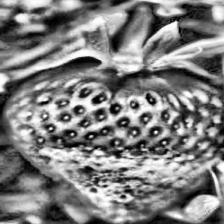Gray Mold: (19, 140, 224, 224)
